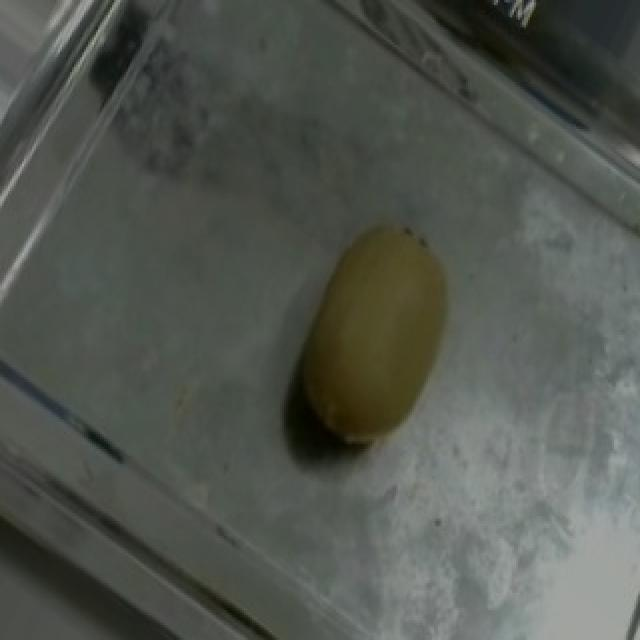Fruit: (250, 194, 490, 482)
